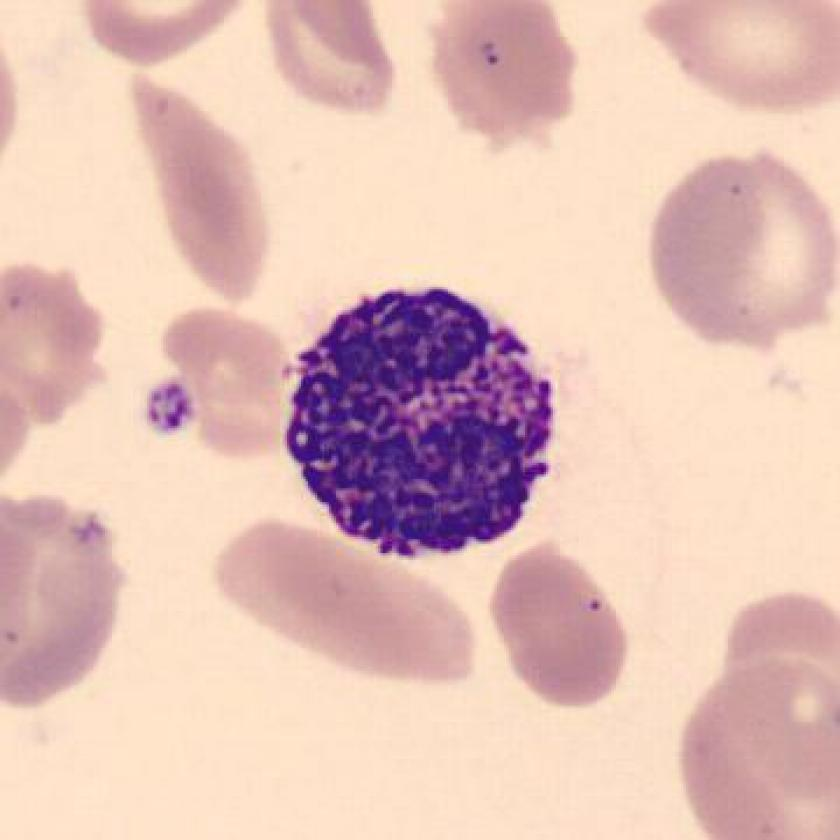basophil: (281, 270, 561, 566)
